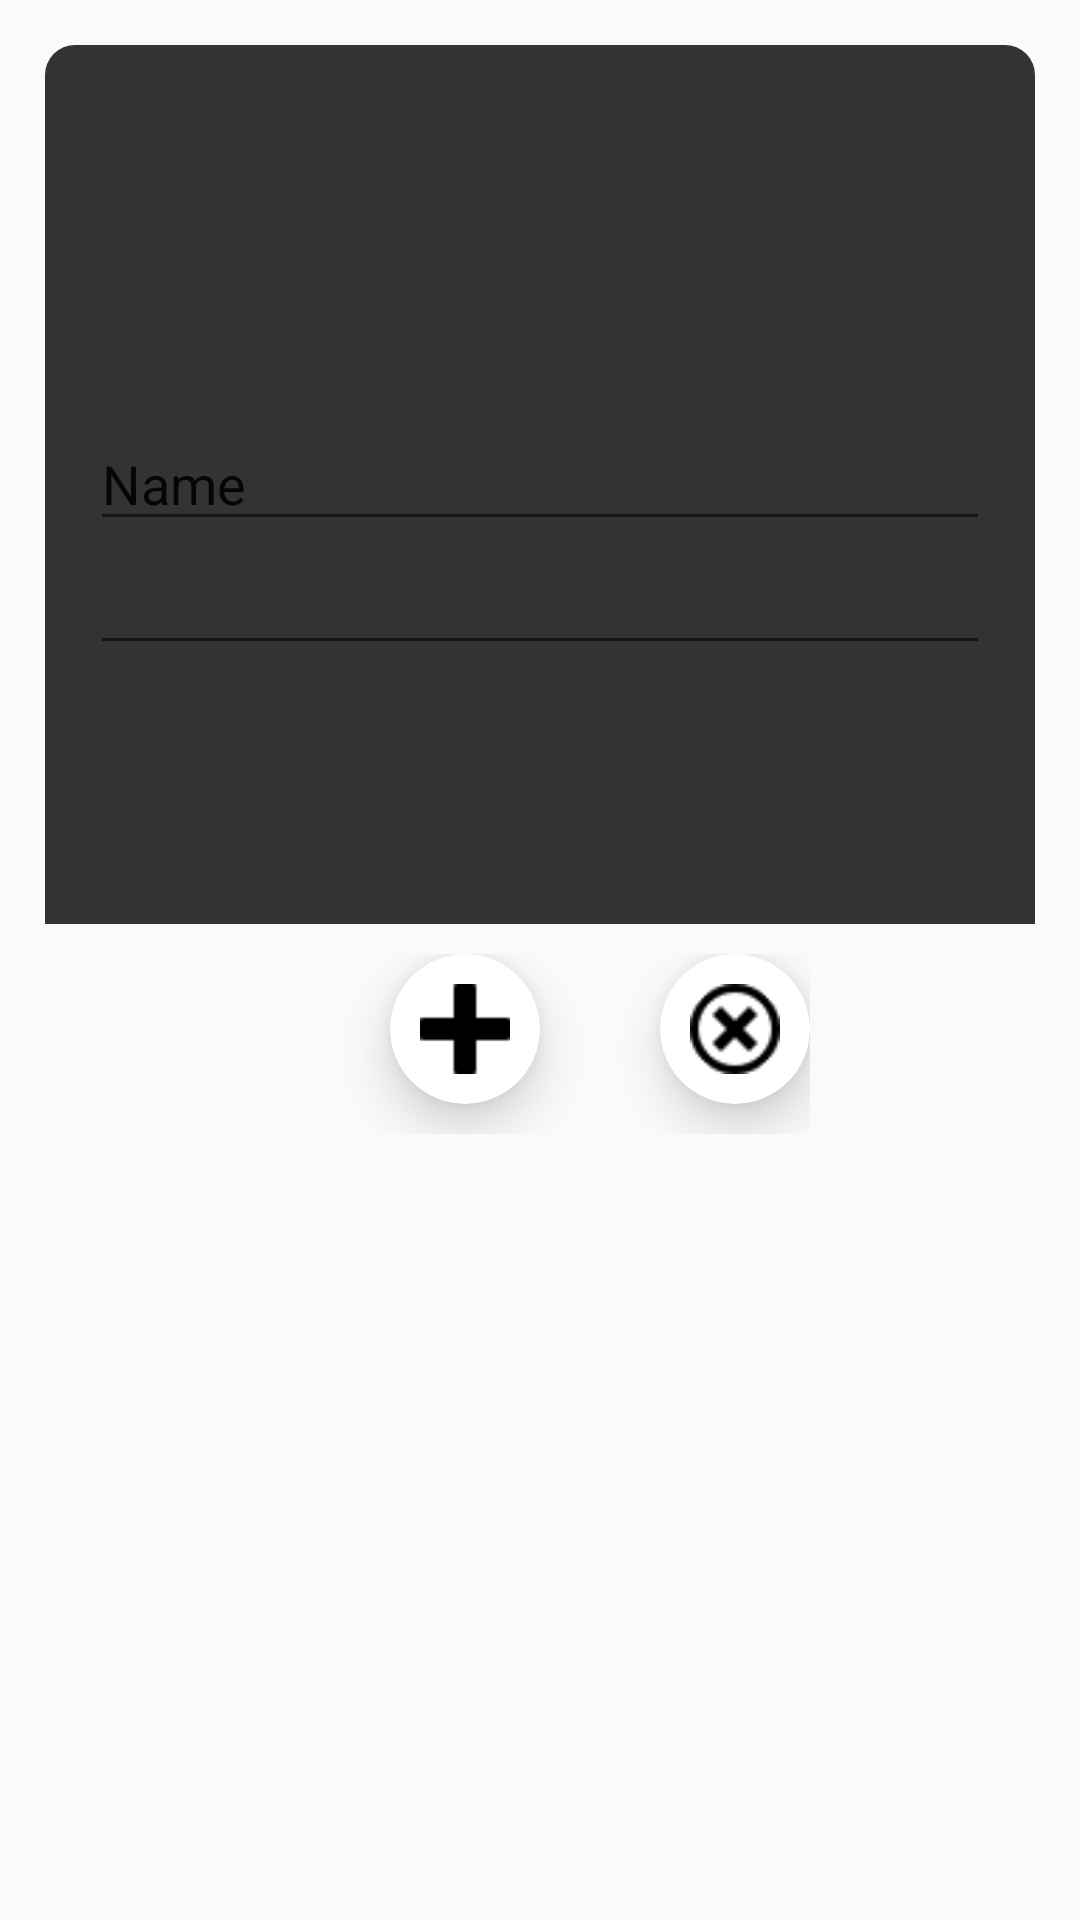

Named icons in this screenshot (1080×1920) and their centers, [x,y]:
add: [465,1029]
close: [735,1029]
